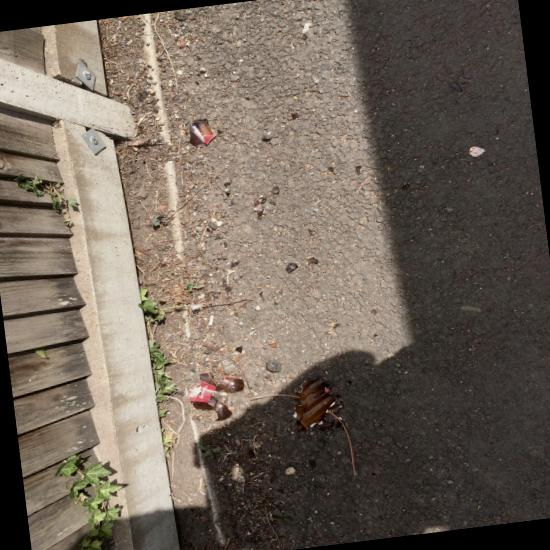Broken glass: (293, 374, 343, 432), (189, 373, 244, 421), (190, 118, 213, 147), (254, 199, 264, 220), (270, 508, 284, 522), (329, 418, 345, 428), (285, 263, 299, 274), (317, 422, 333, 431), (451, 83, 461, 91), (308, 257, 319, 264), (356, 165, 362, 175), (272, 186, 279, 194), (235, 345, 242, 353), (172, 93, 179, 100), (307, 229, 314, 236), (291, 113, 299, 119), (371, 309, 377, 316), (260, 197, 266, 204), (262, 138, 272, 142), (269, 343, 277, 348), (302, 33, 307, 40), (328, 166, 333, 172), (224, 183, 231, 187), (225, 192, 231, 196), (224, 242, 227, 248), (270, 201, 275, 204)
Cigarette: (209, 315, 214, 326)
Unlabeled litter: (470, 147, 485, 157)
